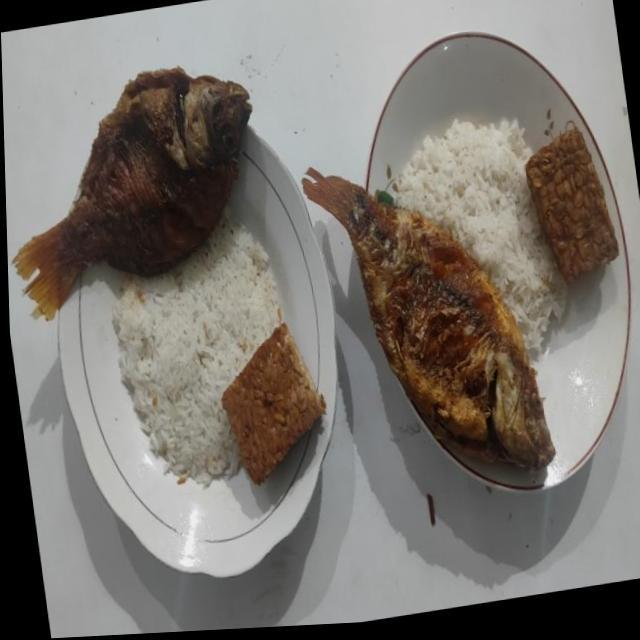ikan_mujair: (302, 168, 554, 468), (12, 67, 252, 319)
nasi_putih: (112, 215, 281, 486), (396, 119, 566, 352)
tempe_goreng: (222, 322, 326, 483), (525, 125, 618, 282)
